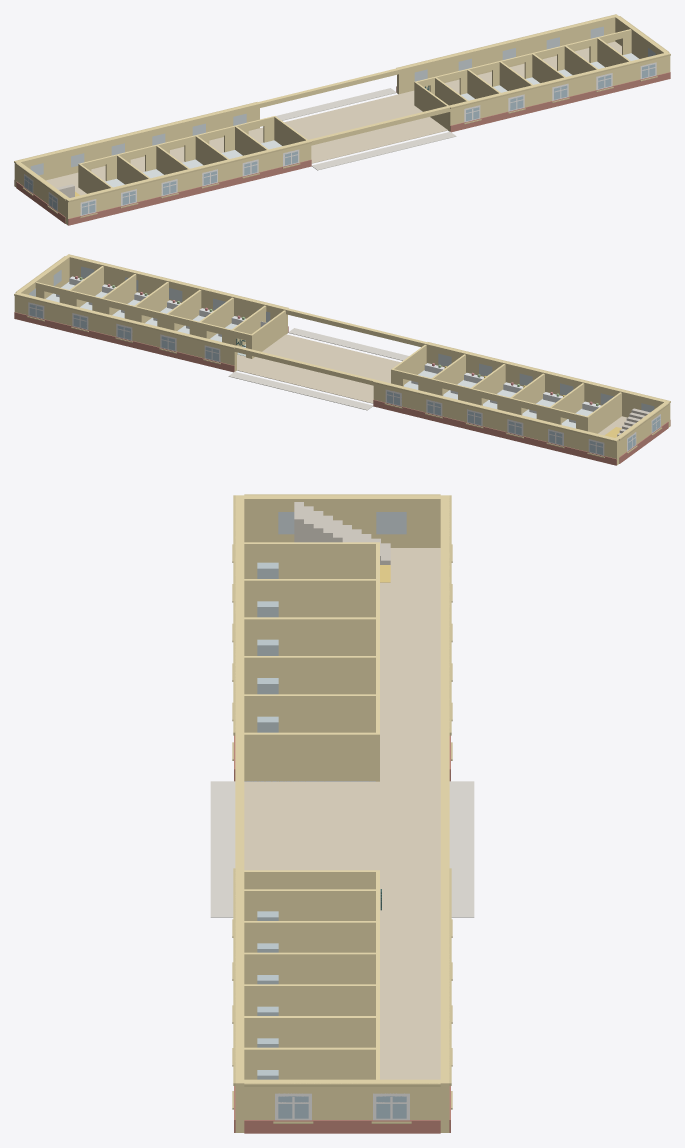
The picture shows the model from 3 angles, top to bottom: view 1: azimuth 30°, elevation 25°; view 2: azimuth 150°, elevation 25°; view 3: azimuth 270°, elevation 25°; orthographic projection. The views are drawn at different scales.
Visible parts, largest first — view 1: HUS_T2__F1__E9C977, HUS_T2__F1__F2D17C, HUS_T2__F1__CDB892, HUS_T2__F1__9C4A3C, HUS_T2__F1__C8AD66, HUS_T2__F1__D7D1C2, HUS_T2__F1__FBF8F1, HUS_T2__F1__B4C7CD, HUS_T2__F1__87AABD, HUS_T2__F1__D3E0E3, HUS_T2__F1__86A9BC, HUS_T2__F1__C4A964; view 2: HUS_T2__F1__E9C977, HUS_T2__F1__F2D17C, HUS_T2__F1__CDB892, HUS_T2__F1__9C4A3C, HUS_T2__F1__C8AD66, HUS_T2__F1__D7D1C2, HUS_T2__F1__FBF8F1, HUS_T2__F1__D3E0E3, HUS_T2__F1__E6ECEE, HUS_T2__F1__B4C7CD, HUS_T2__F1__86A9BC, HUS_T2__F1__87AABD (+1 smaller); view 3: HUS_T2__F1__F2D17C, HUS_T2__F1__CDB892, HUS_T2__F1__E9C977, HUS_T2__F1__D7D1C2, HUS_T2__F1__C8AD66, HUS_T2__F1__9DB4BC, HUS_T2__F1__9C4A3C, HUS_T2__F1__BFB3A0, HUS_T2__F1__B4C7CD, HUS_T2__F1__FBF8F1, HUS_T2__F1__C4A964.
Boxes of the visible parts, x1,y1,x2,y2 form: HUS_T2__F1__E9C977: (14,14,670,225); HUS_T2__F1__F2D17C: (78,29,631,193); HUS_T2__F1__CDB892: (46,41,621,195); HUS_T2__F1__9C4A3C: (14,72,670,225); HUS_T2__F1__C8AD66: (14,14,670,202); HUS_T2__F1__D7D1C2: (276,88,456,170); HUS_T2__F1__FBF8F1: (24,62,656,215); HUS_T2__F1__B4C7CD: (30,26,655,175); HUS_T2__F1__87AABD: (24,85,567,214); HUS_T2__F1__D3E0E3: (105,53,638,187); HUS_T2__F1__86A9BC: (122,64,655,204); HUS_T2__F1__C4A964: (22,76,657,217); HUS_T2__F1__E9C977: (14,254,670,465); HUS_T2__F1__F2D17C: (35,266,621,433); HUS_T2__F1__CDB892: (237,334,626,435); HUS_T2__F1__9C4A3C: (14,312,670,465); HUS_T2__F1__C8AD66: (14,254,670,442); HUS_T2__F1__D7D1C2: (228,328,408,410); HUS_T2__F1__FBF8F1: (28,302,660,455); HUS_T2__F1__D3E0E3: (46,282,592,428); HUS_T2__F1__E6ECEE: (56,276,601,423); HUS_T2__F1__B4C7CD: (29,266,654,412); HUS_T2__F1__86A9BC: (29,304,562,444); HUS_T2__F1__87AABD: (387,391,660,454); HUS_T2__F1__F2D17C: (244,542,379,1079); HUS_T2__F1__CDB892: (244,548,440,1079); HUS_T2__F1__E9C977: (235,495,449,1132); HUS_T2__F1__D7D1C2: (210,781,474,917); HUS_T2__F1__C8AD66: (233,494,451,1086); HUS_T2__F1__9DB4BC: (257,562,278,1079); HUS_T2__F1__9C4A3C: (234,735,450,1133); HUS_T2__F1__BFB3A0: (294,502,390,564); HUS_T2__F1__B4C7CD: (278,512,406,534); HUS_T2__F1__FBF8F1: (275,1093,409,1120); HUS_T2__F1__C4A964: (232,544,452,1123).
Bounding box in the file's own units: 102 × 4 × 19.2.
